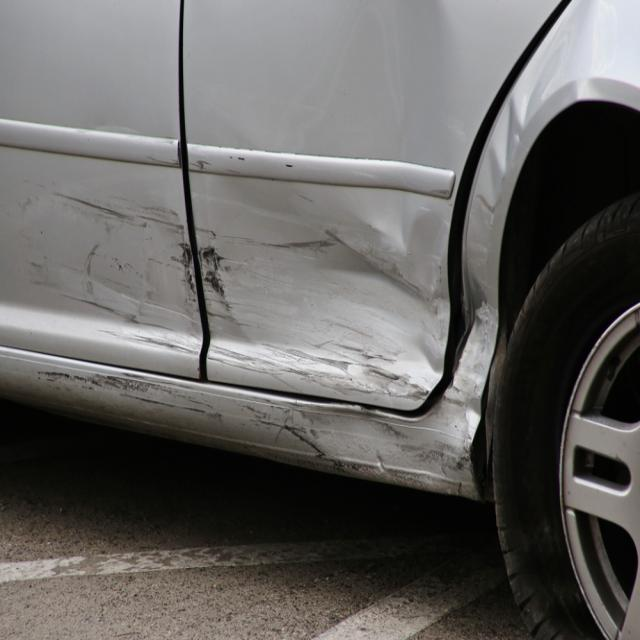dent: (445, 0, 614, 442), (207, 182, 448, 394), (349, 0, 452, 160)
scratch: (35, 371, 479, 495), (12, 180, 205, 362), (196, 248, 281, 380)
